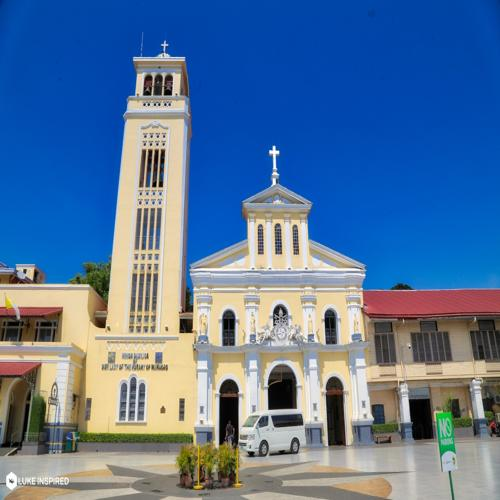Manaoag Church: (86, 35, 370, 453)
